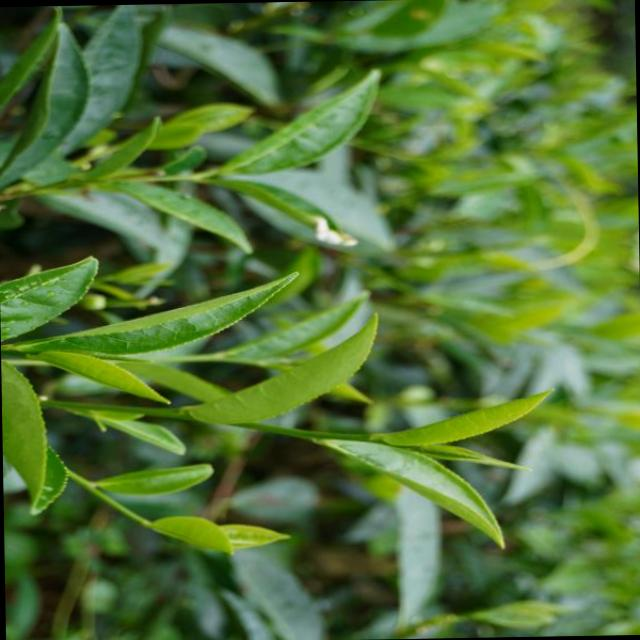Stem: (363, 433, 375, 441)
